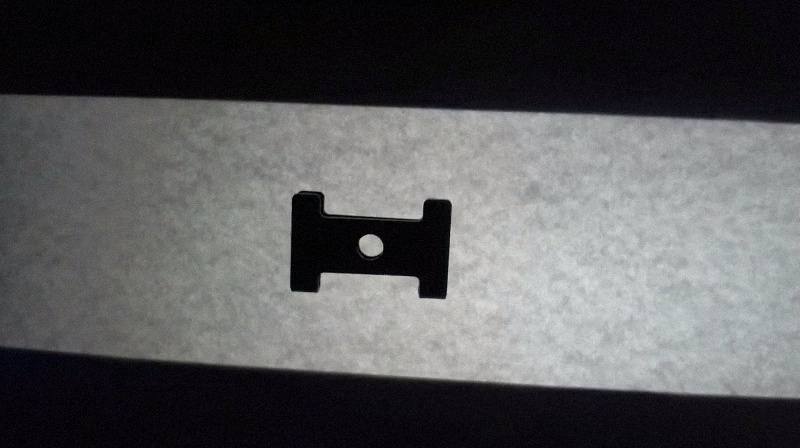O002: (285, 187, 453, 303)
